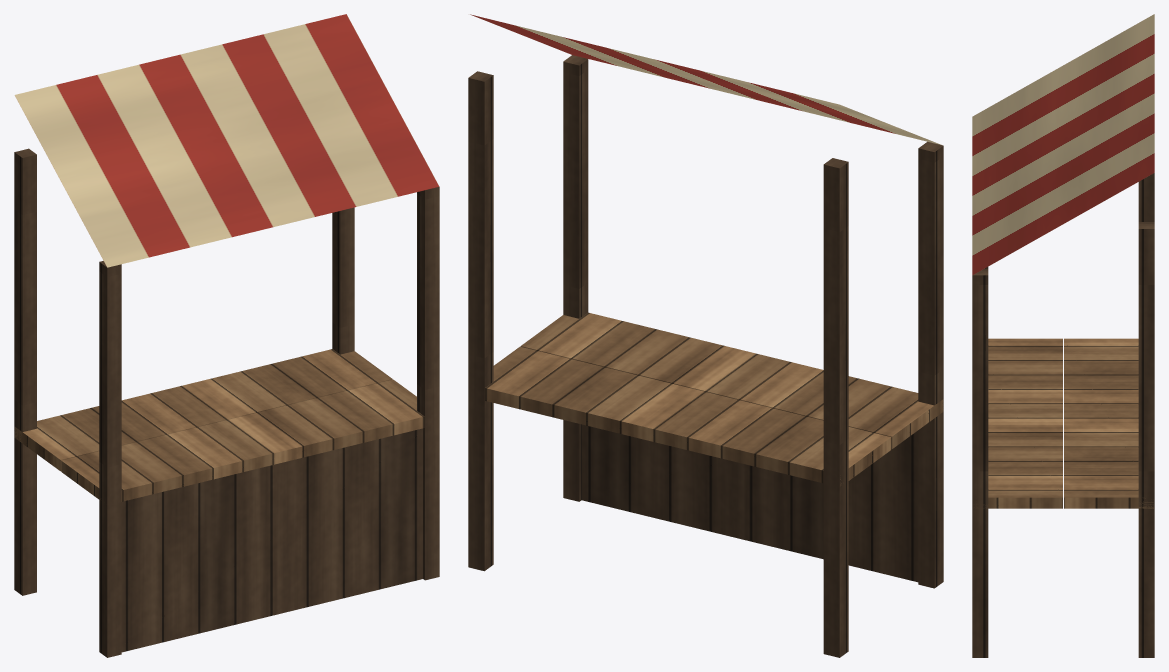
The model's file is Stall_Empty_LOD1.gltf.
3 views of the same model, side by side, from view 1: azimuth 30°, elevation 25°; view 2: azimuth 150°, elevation 25°; view 3: azimuth 270°, elevation 25° (orthographic). The views are drawn at different scales.
Visible parts, largest first — view 1: Stall_Empty_LOD1; view 2: Stall_Empty_LOD1; view 3: Stall_Empty_LOD1.
Boxes of the visible parts, x1,y1,x2,y2 form: Stall_Empty_LOD1: (14,14,439,657); Stall_Empty_LOD1: (468,14,943,657); Stall_Empty_LOD1: (972,14,1154,657).
Size of the model in its own units: 1.84 by 2.62 by 0.8913.
Materials: 3 (3 with a texture image).
